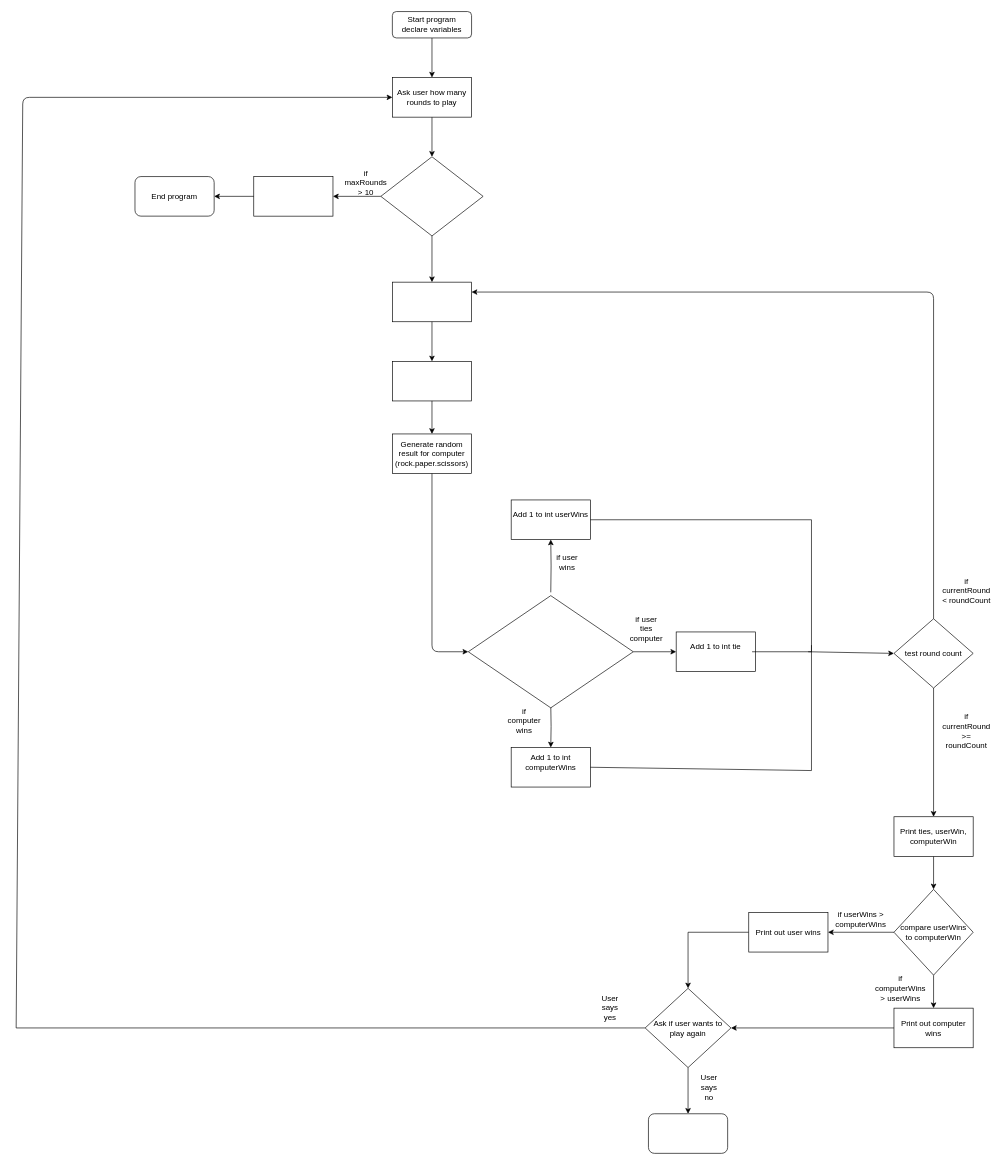
Image size: 1005x1165. Some labels were removed from this diagram. The shapes that lost their labels are listed below. From the top down, each one's centre as x and y in pixels, then its label:
(x=293, y=196): Print error to console
(x=431, y=196): Compare user input to maxRounds >10
(x=432, y=301): Enter loop that runs for the amount of rounds
(x=432, y=381): Ask the user for his/her choice(rock/paper/scissors)
(x=550, y=651): if/else statement to compare user guess to computer random guess
(x=688, y=1133): Print thank you End program
